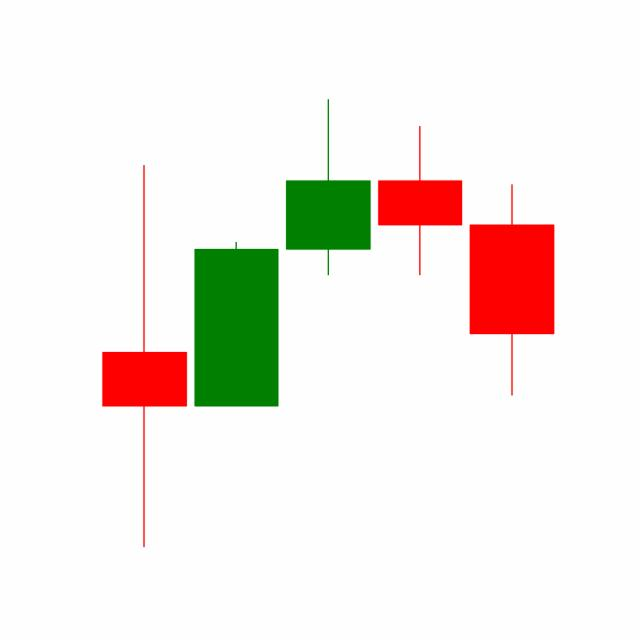Spinning Top: (373, 124, 467, 278)
